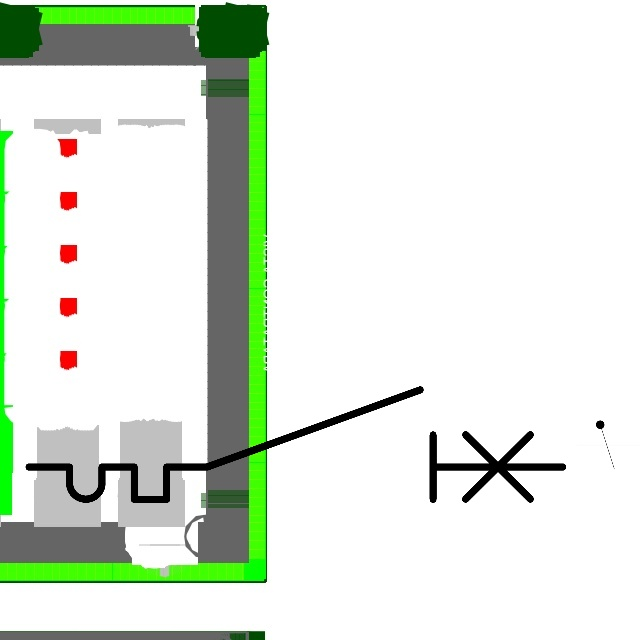interruptor_termomagnetico: (15, 376, 577, 513)
